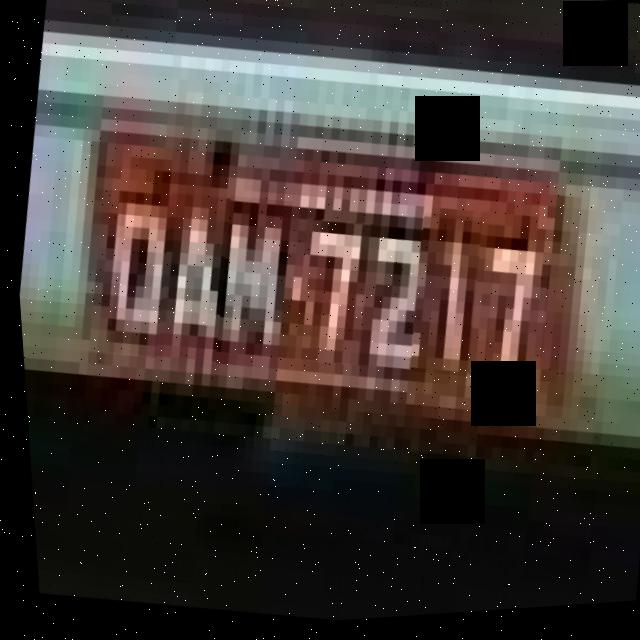1: (396, 216, 487, 387)
7: (282, 219, 377, 374), (471, 254, 552, 398)
A: (142, 192, 237, 375)
M: (204, 196, 298, 364)
Q: (95, 191, 176, 361)
